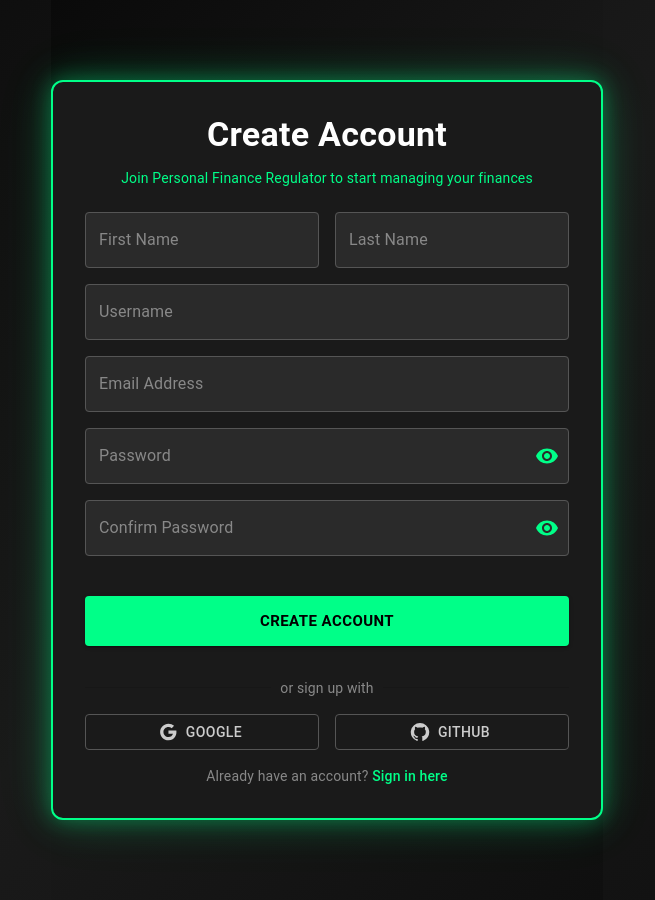
Test case: Authentication Flow › Sign Up Functionality › should validate password confirmation match
This screenshot has width=655, height=900.
Type "ValidPass123" into the password field labelled "Password" at (302, 456), box [85,428,519,484]
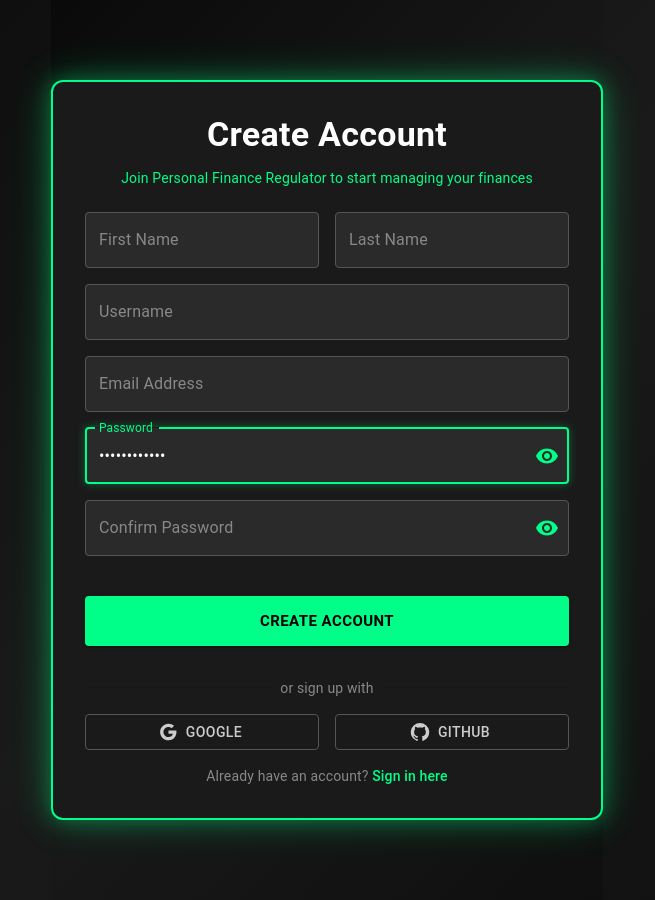
Type "DifferentPass123" into the password field labelled "Confirm Password" at (302, 528), box [85,500,519,556]
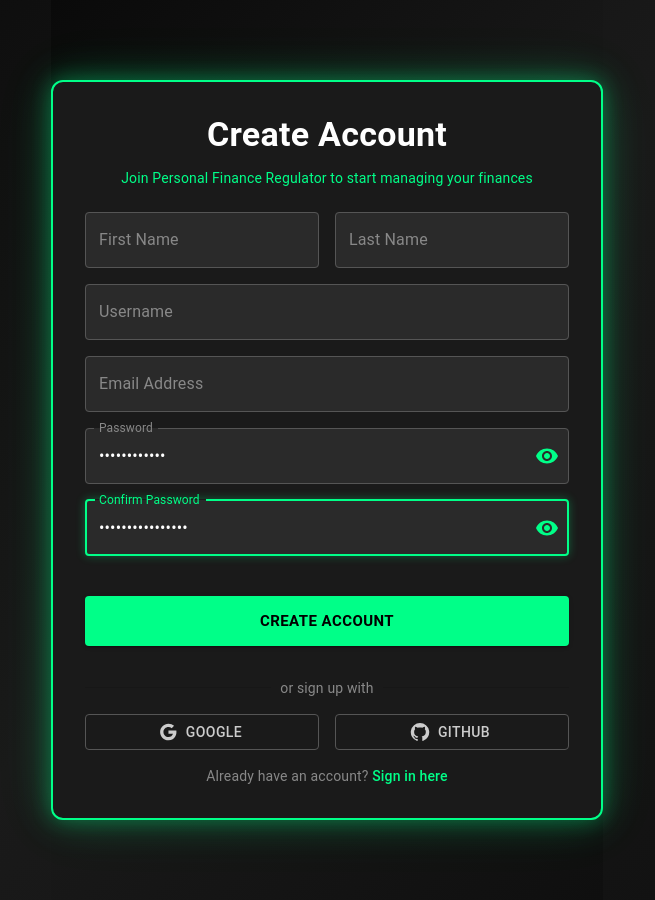
Click the button "Create Account" at (327, 621), box [85,596,569,646]
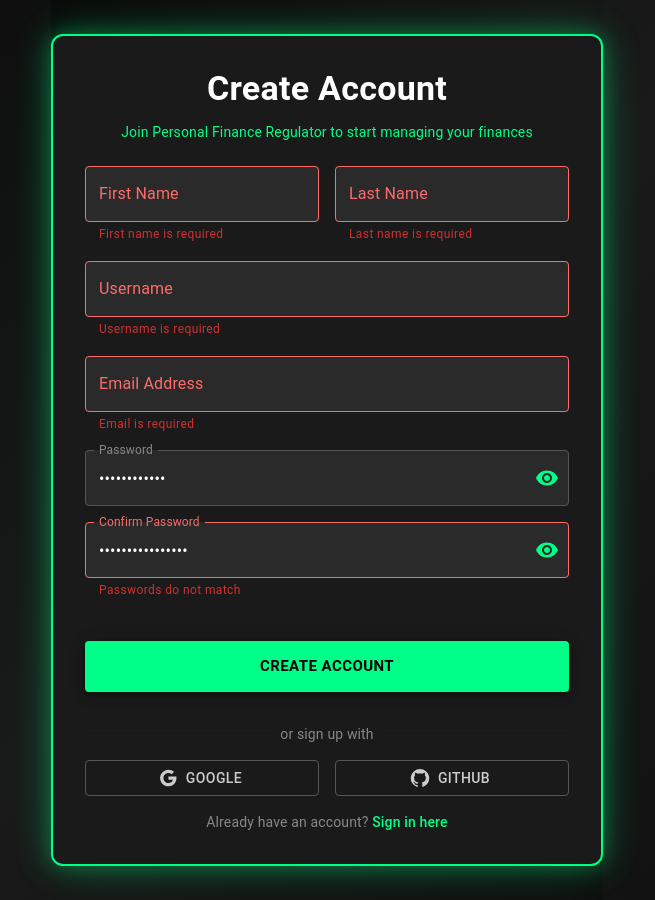
Check: the text "Passwords do not match" is shown, box [99,584,241,598]
